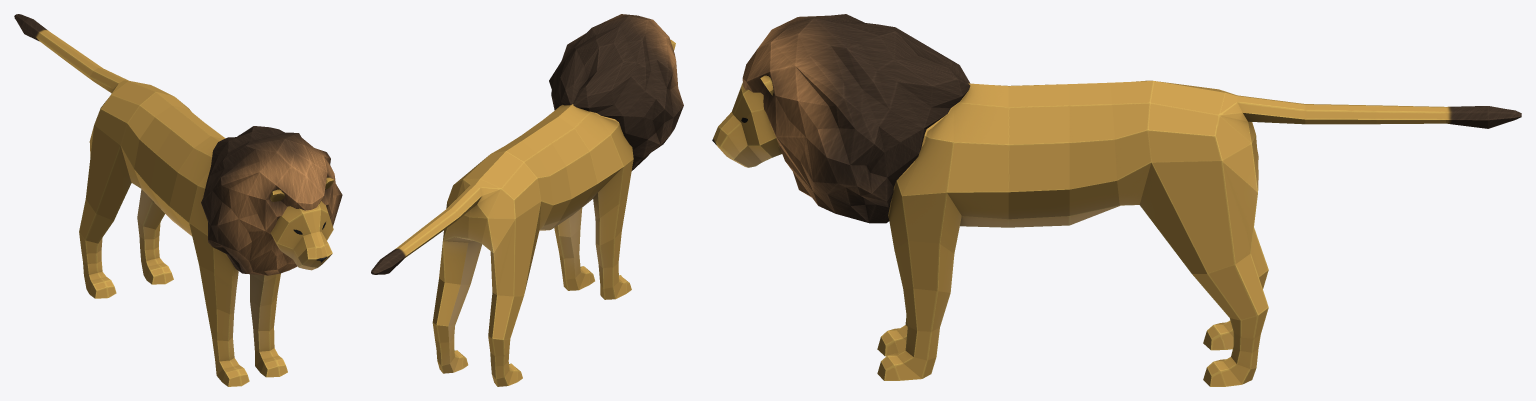
Rendered from animal-lion.glb.
The picture shows the model from 3 angles, left to right: view 1: azimuth 30°, elevation 25°; view 2: azimuth 150°, elevation 25°; view 3: azimuth 270°, elevation 25°; orthographic projection. The views are drawn at different scales.
Visible parts, largest first — view 1: Lion_mesh; view 2: Lion_mesh; view 3: Lion_mesh.
Boxes of the visible parts, x1,y1,x2,y2 form: Lion_mesh: [14, 14, 342, 386]; Lion_mesh: [371, 14, 683, 386]; Lion_mesh: [712, 14, 1521, 386].
Bounding box in the file's own units: 3.4 × 6.76 × 14.46.
1 material, 1 textured.
